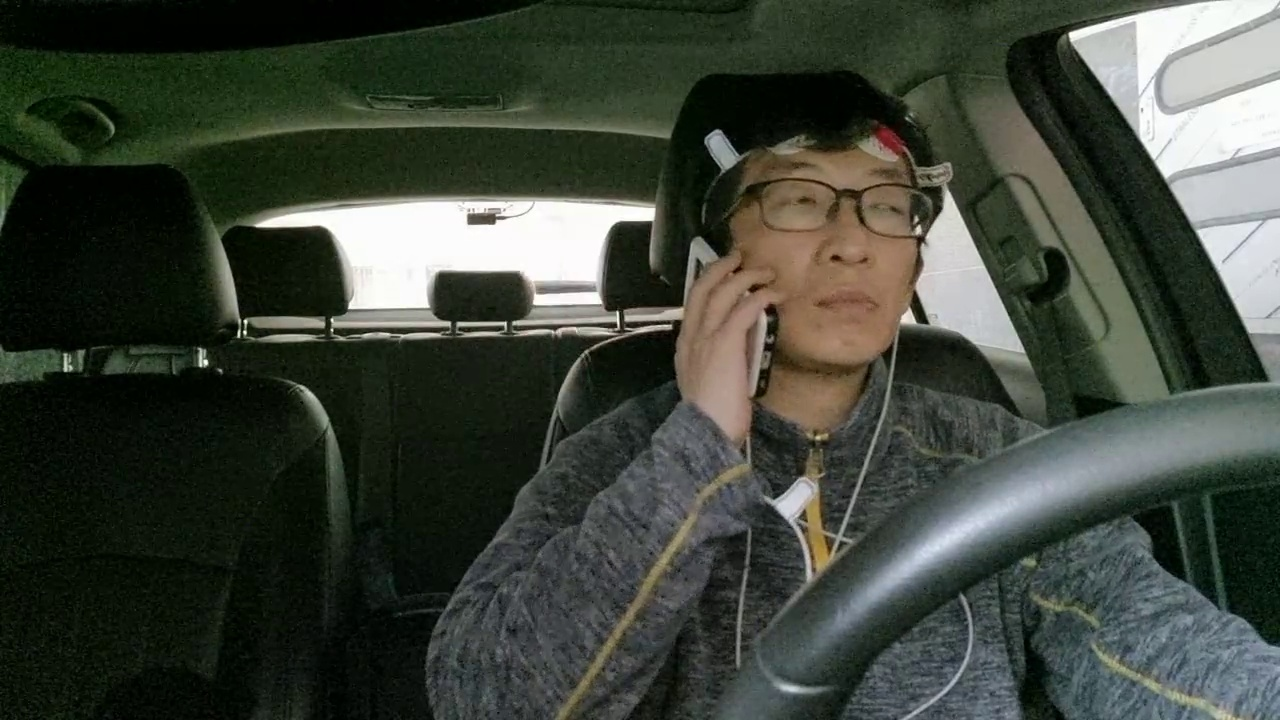phone: (636, 208, 819, 419)
